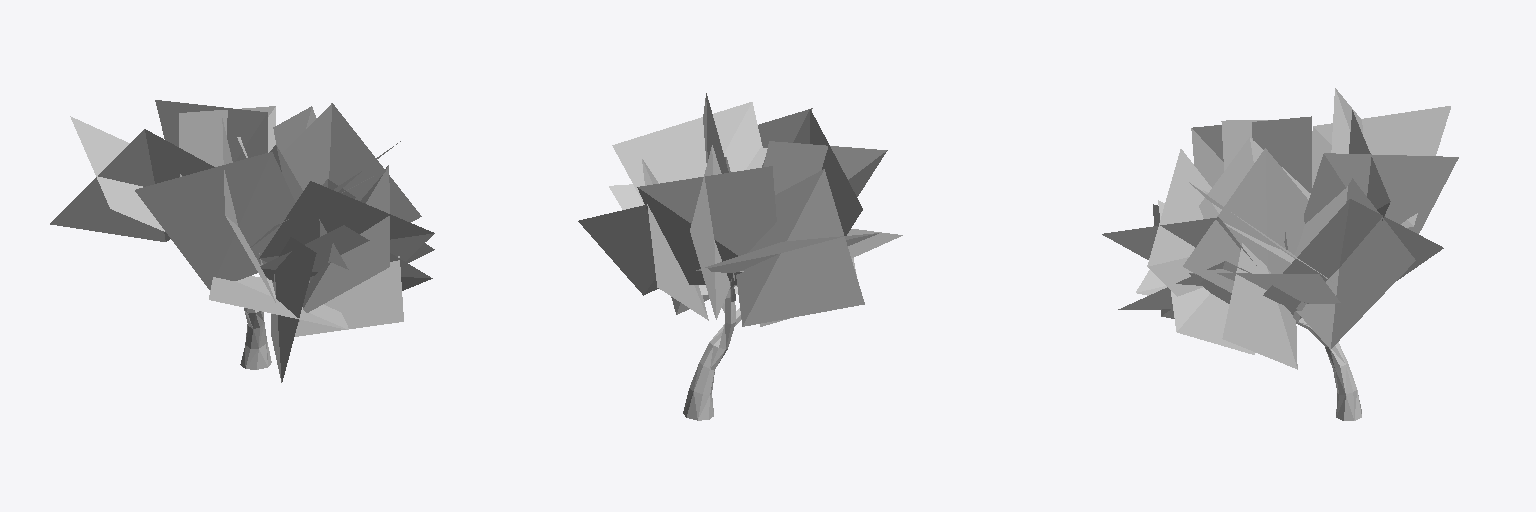
The model's file is obj__tree1.obj.
The picture shows the model from 3 angles: view 1: azimuth 30°, elevation 25°; view 2: azimuth 150°, elevation 25°; view 3: azimuth 270°, elevation 25°; orthographic projection.
Parts seen in each view (by area): view 1: tree1.tga; view 2: tree1.tga; view 3: tree1.tga.
Boxes of the visible parts, box(x1,y1,x2,y2) form: tree1.tga: box(50, 100, 434, 382); tree1.tga: box(578, 93, 902, 420); tree1.tga: box(1102, 88, 1458, 420).
Bounding box in the file's own units: 67.59 × 60.35 × 69.17.